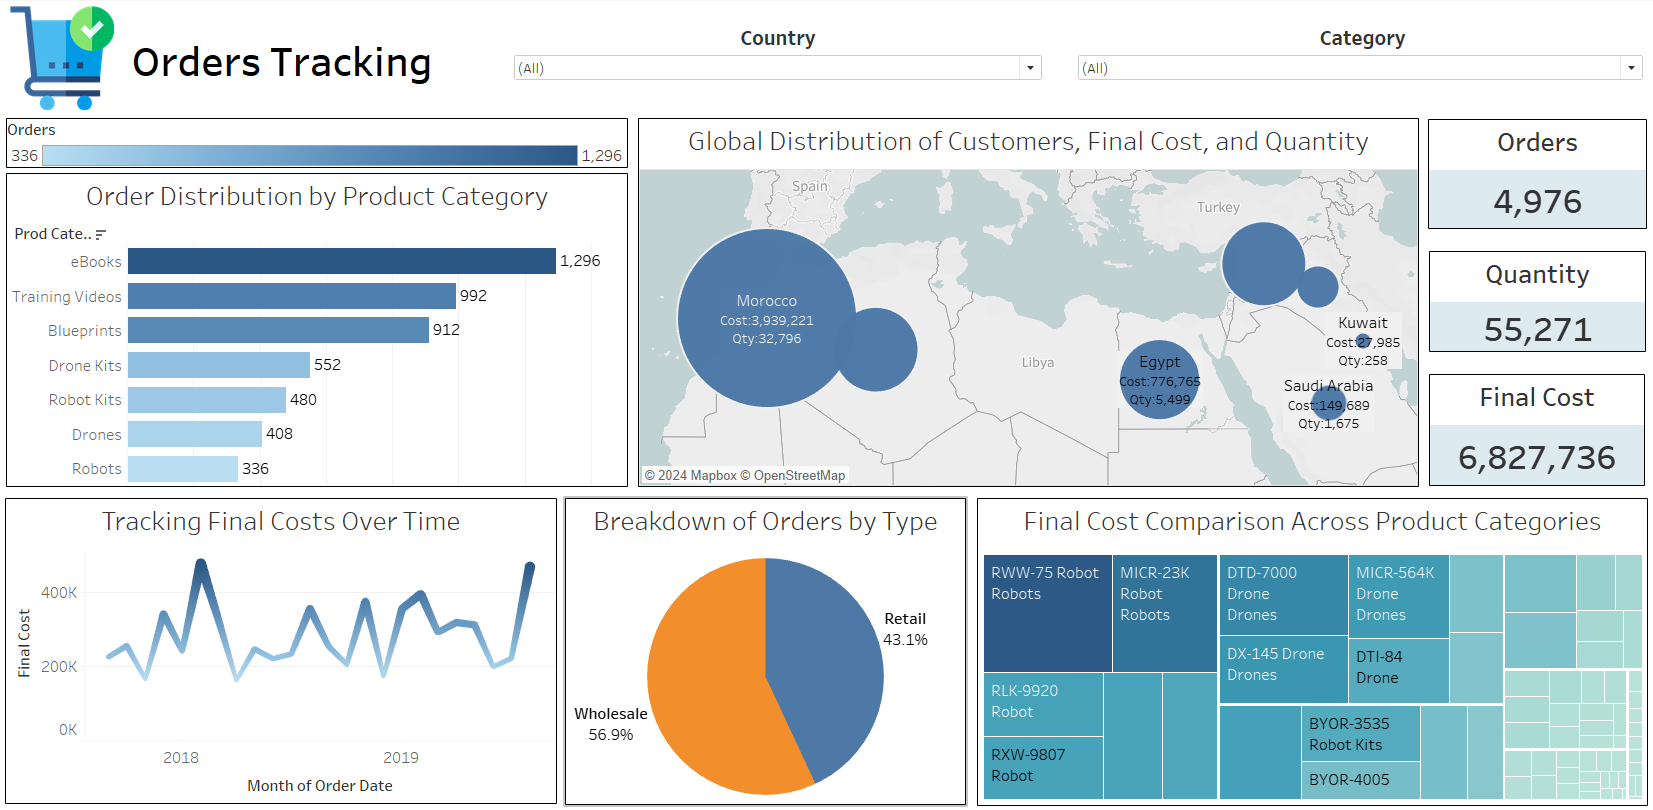

This screenshot's page, from the dashboard's own definition file:
{"tool":"tableau","page":{"name":"Orders Tracking","canvas":[1000,1000],"units":"permille","ordinal":0},"visuals":[{"type":"image","param":"C:/Users/DELL/Downloads/order.png","box":[7.9,6.2,67,128.2]},{"type":"filter","title":"Global Distribution of Customers, Final Cost, and Quantity","param":"[federated.0ljoxbt0li3ikj14b95ix1iakksr].[none:CustCountry:nk]","box":[310.2,27.1,322.3,96.2]},{"type":"filter","title":"Order Distribution by Product Category","param":"[federated.0ljoxbt0li3ikj14b95ix1iakksr].[none:ProdCategory:nk]","box":[650.6,27.1,344.6,98.6]},{"type":"text","box":[76,37,191.9,70.3]},{"type":"legend","title":"Order Distribution by Product Category","param":"[federated.0ljoxbt0li3ikj14b95ix1iakksr].[cnt:OrderNum:qk]","box":[5.4,144.3,375.4,61.6]},{"type":"worksheet","title":"Global Distribution of Customers, Final Cost, and Quantity","mark":"Automatic","box":[386.8,144.3,471.3,455]},{"type":"worksheet","title":"Orders","mark":"Automatic","box":[863.6,145.5,132.2,135.6]},{"type":"worksheet","title":"Order Distribution by Product Category","mark":"Automatic","rows":["ProdCategory"],"cols":["OrderNum"],"box":[5.4,212.1,375.4,387.2]},{"type":"worksheet","title":"Quantity","mark":"Automatic","box":[864.2,308.3,131,124.5]},{"type":"worksheet","title":"Final Cost","mark":"Automatic","box":[864.2,459.9,130.4,138.1]},{"type":"worksheet","title":"Tracking Final Costs Over Time","mark":"Automatic","rows":["Calculation_853713668316766208"],"cols":["OrderDate"],"box":[4.8,612.8,333.1,377.3]},{"type":"worksheet","title":"Breakdown of Orders by Type","mark":"Pie","box":[342.8,612.8,242,378.6]},{"type":"worksheet","title":"Final Cost Comparison Across Product Categories","mark":"Automatic","box":[591.4,612.8,404.9,379.8]}]}

Visuals, with their boxes on the dashboard's canvas, which has no fixed pixel size, in thousandths of its width and height (x1, y1, x2, y2). These are canvas units, not pixel positions in the 1653x810 screenshot, which may show the page scaled, cropped or inside an application window:
image: <box>8,6,75,134</box>
"Global Distribution of Customers, Final Cost, and Quantity" filter: <box>310,27,632,123</box>
"Order Distribution by Product Category" filter: <box>651,27,995,126</box>
text: <box>76,37,268,107</box>
"Order Distribution by Product Category" legend: <box>5,144,381,206</box>
"Global Distribution of Customers, Final Cost, and Quantity" worksheet: <box>387,144,858,599</box>
"Orders" worksheet: <box>864,146,996,281</box>
"Order Distribution by Product Category" worksheet: <box>5,212,381,599</box>
"Quantity" worksheet: <box>864,308,995,433</box>
"Final Cost" worksheet: <box>864,460,995,598</box>
"Tracking Final Costs Over Time" worksheet: <box>5,613,338,990</box>
"Breakdown of Orders by Type" worksheet (Pie marks): <box>343,613,585,991</box>
"Final Cost Comparison Across Product Categories" worksheet: <box>591,613,996,993</box>
